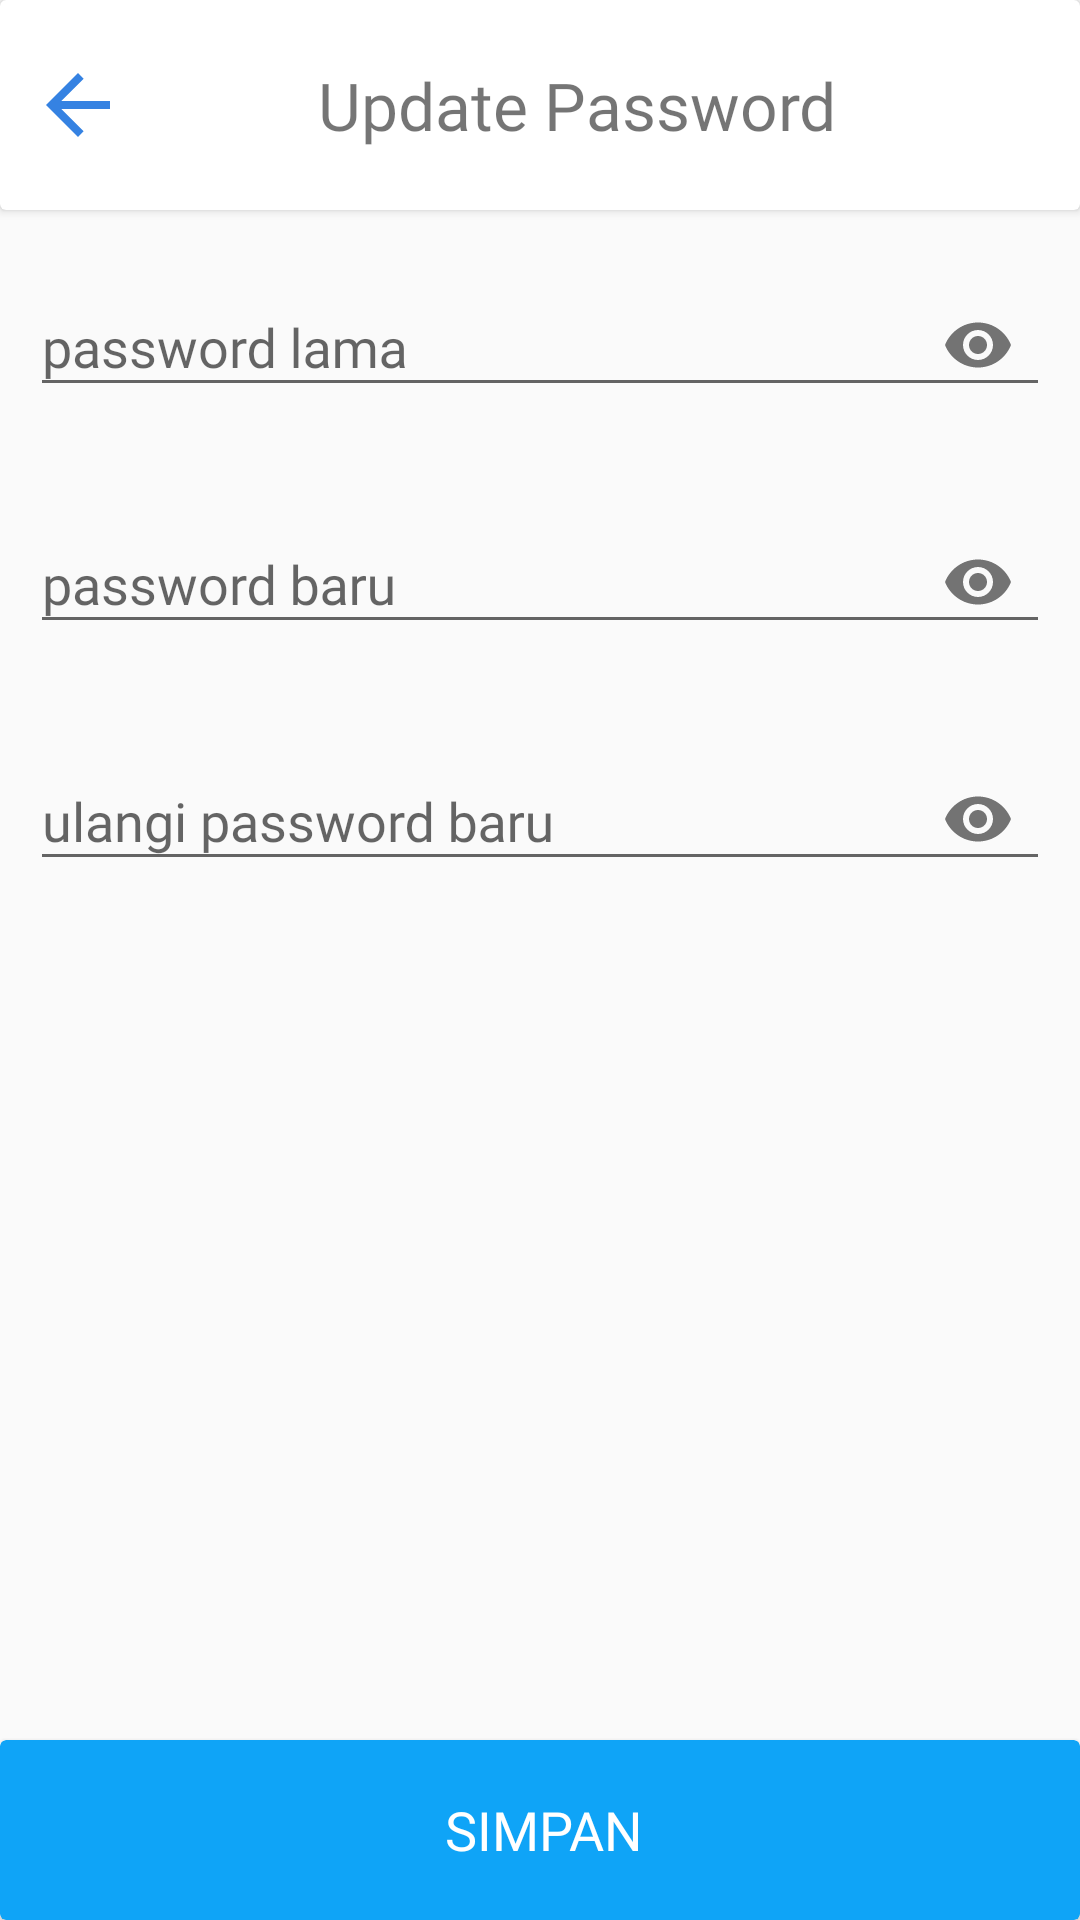

Screen size 1080x1920. Icon name, then its center in pixels as (x,y):
arrow back: (78,105)
